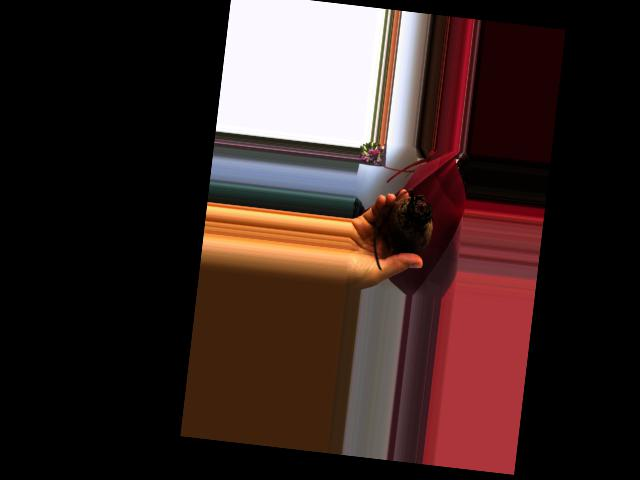beet: (370, 184, 436, 275)
